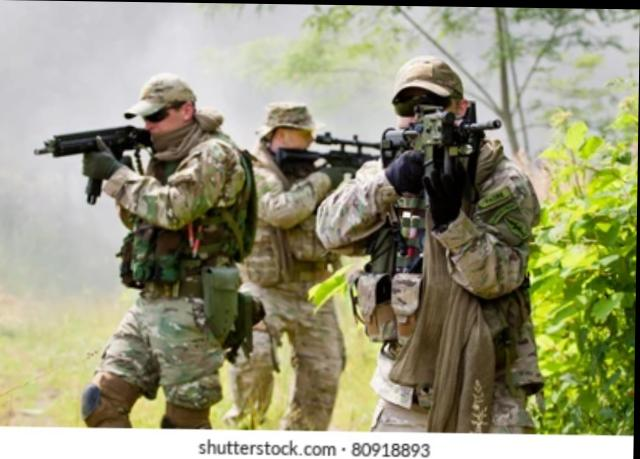other: (355, 58, 545, 428), (107, 73, 247, 426), (232, 95, 340, 423)
